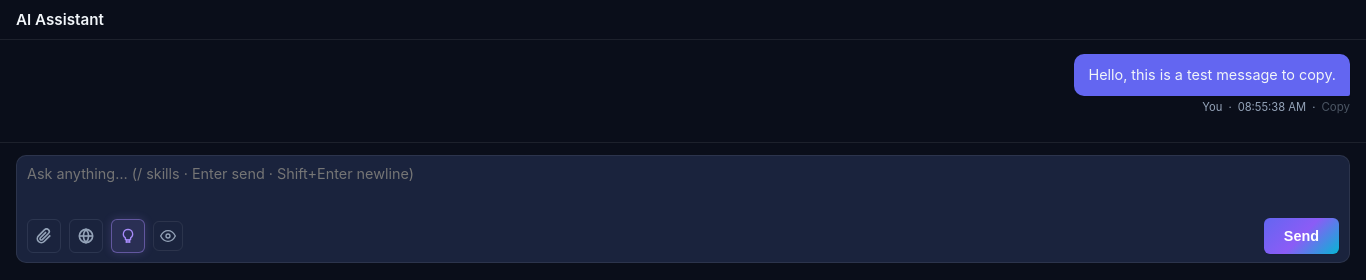
ChatPanel Component Attachments Integration › should render the copy button in message info and write to clipboard when clicked
Click the button titled "Copy": coordinates (1336, 107) [1321,100,1350,114]
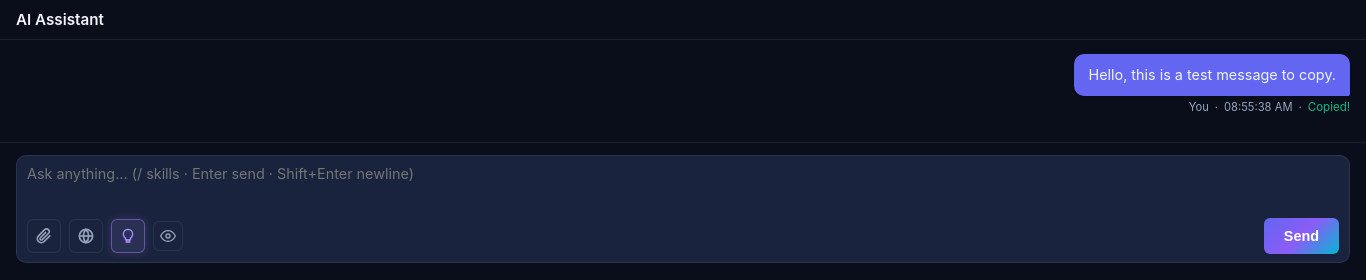
Result: the button titled "Copy" reads "Copied!" at [1308,100,1350,114]
